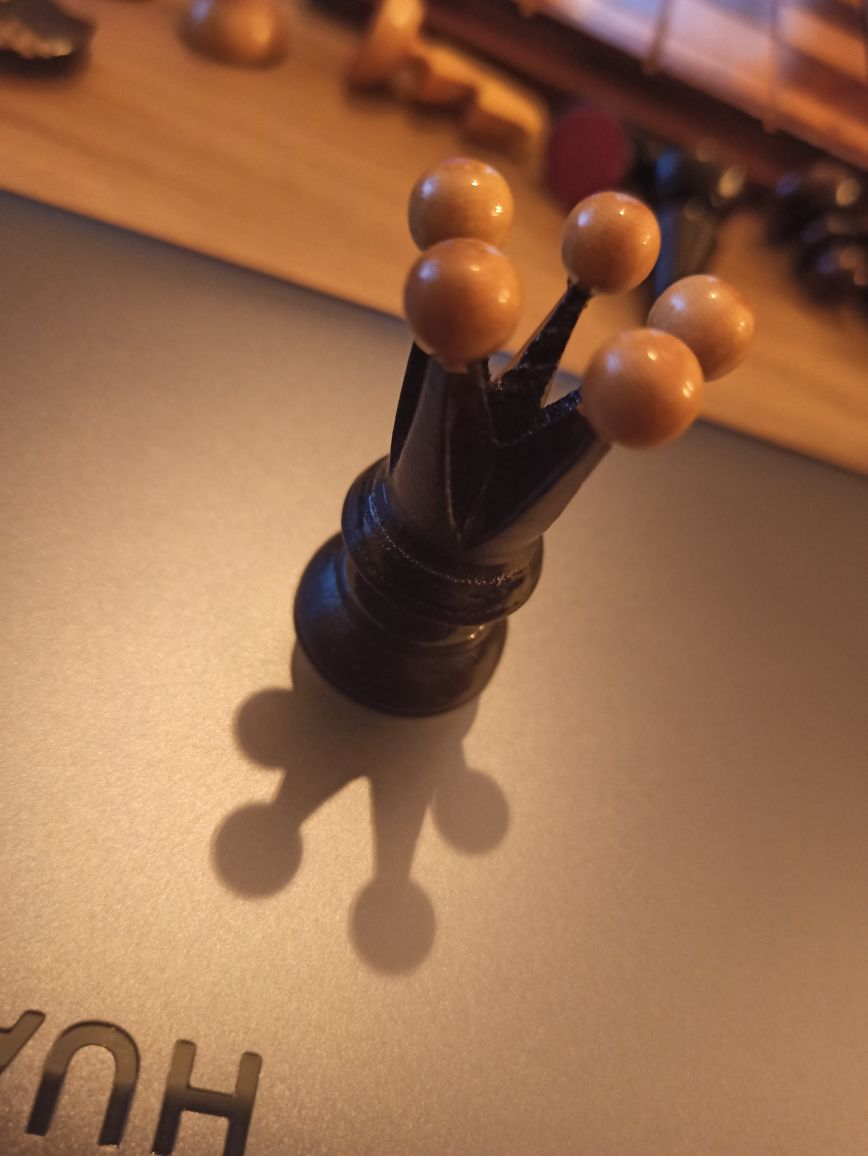bqueen: (293, 157, 755, 718)
